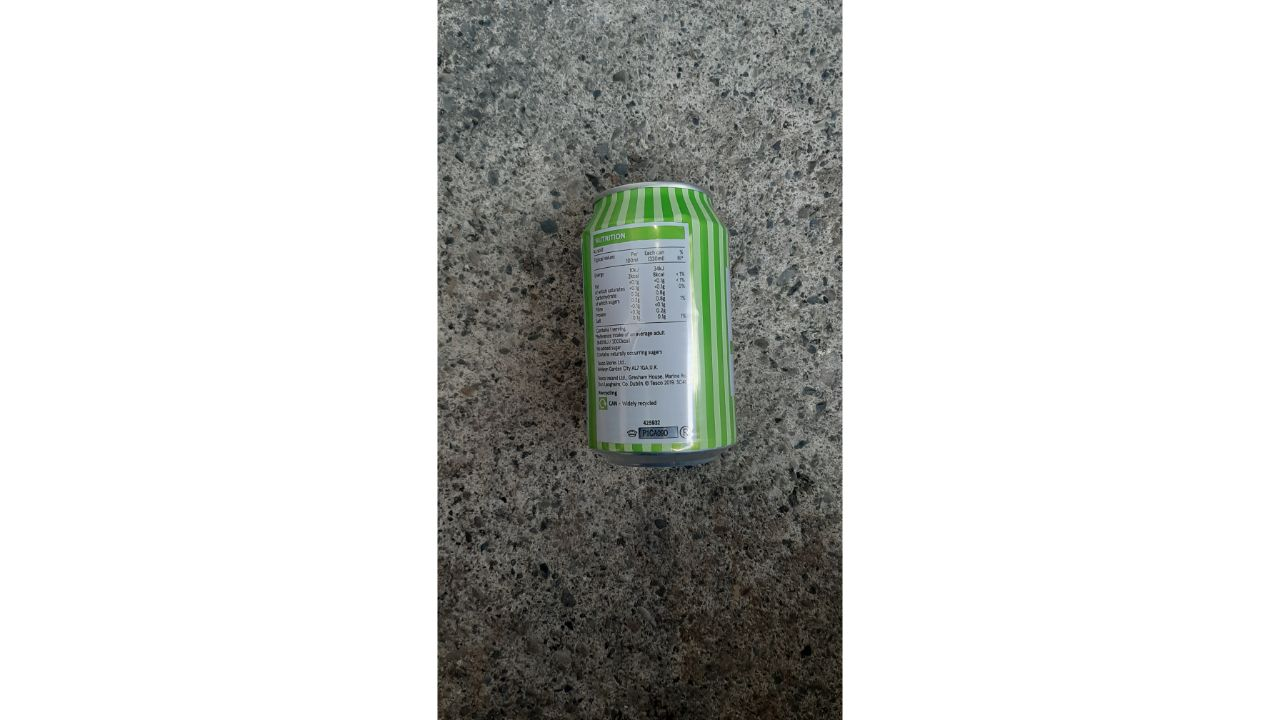Can: (569, 172, 748, 479)
